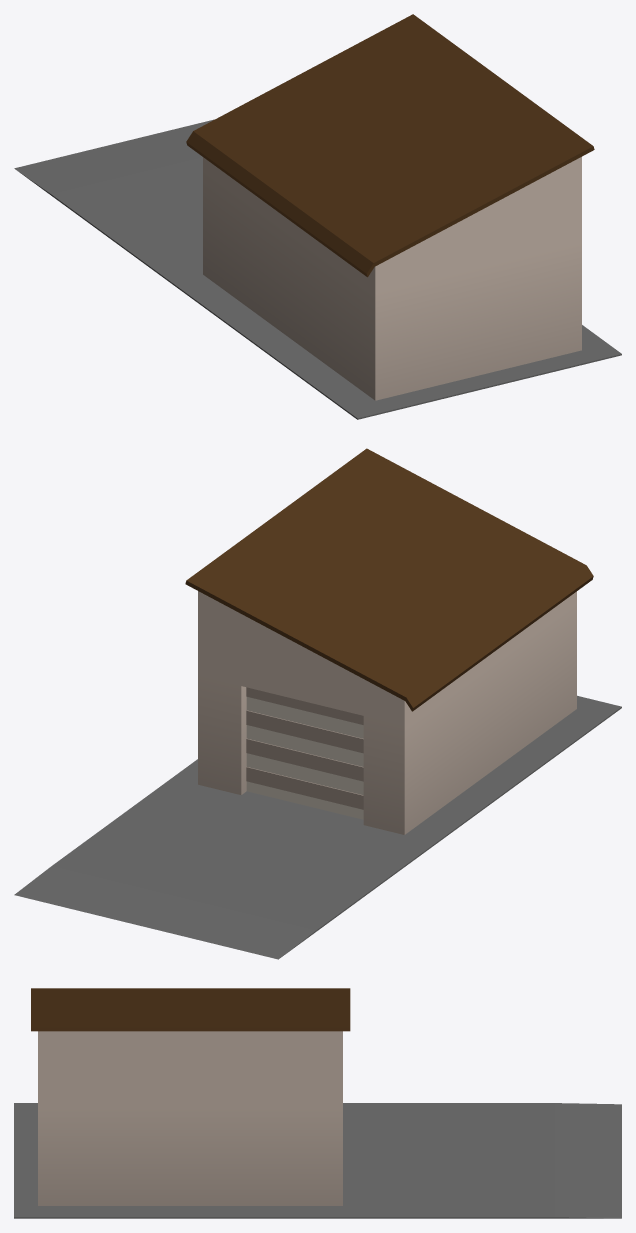
The model's file is garage_2.fbx.
3 views of the same model, one above another, from view 1: azimuth 30°, elevation 25°; view 2: azimuth 150°, elevation 25°; view 3: azimuth 270°, elevation 25° (orthographic). The views are drawn at different scales.
Parts seen in each view (by area): view 1: garage_2; view 2: garage_2; view 3: garage_2.
Part boxes in pixels (bbox=[...]): garage_2: bbox=[14, 14, 621, 419]; garage_2: bbox=[14, 448, 621, 959]; garage_2: bbox=[14, 988, 621, 1218].
Bounding box in the file's own units: 8 × 18 × 6.04.
